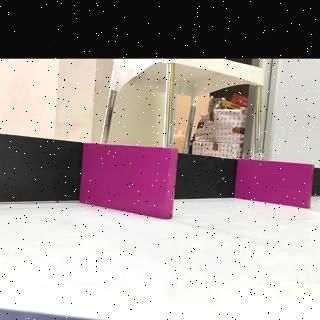xparking: (88, 149, 174, 211), (242, 164, 312, 203)
